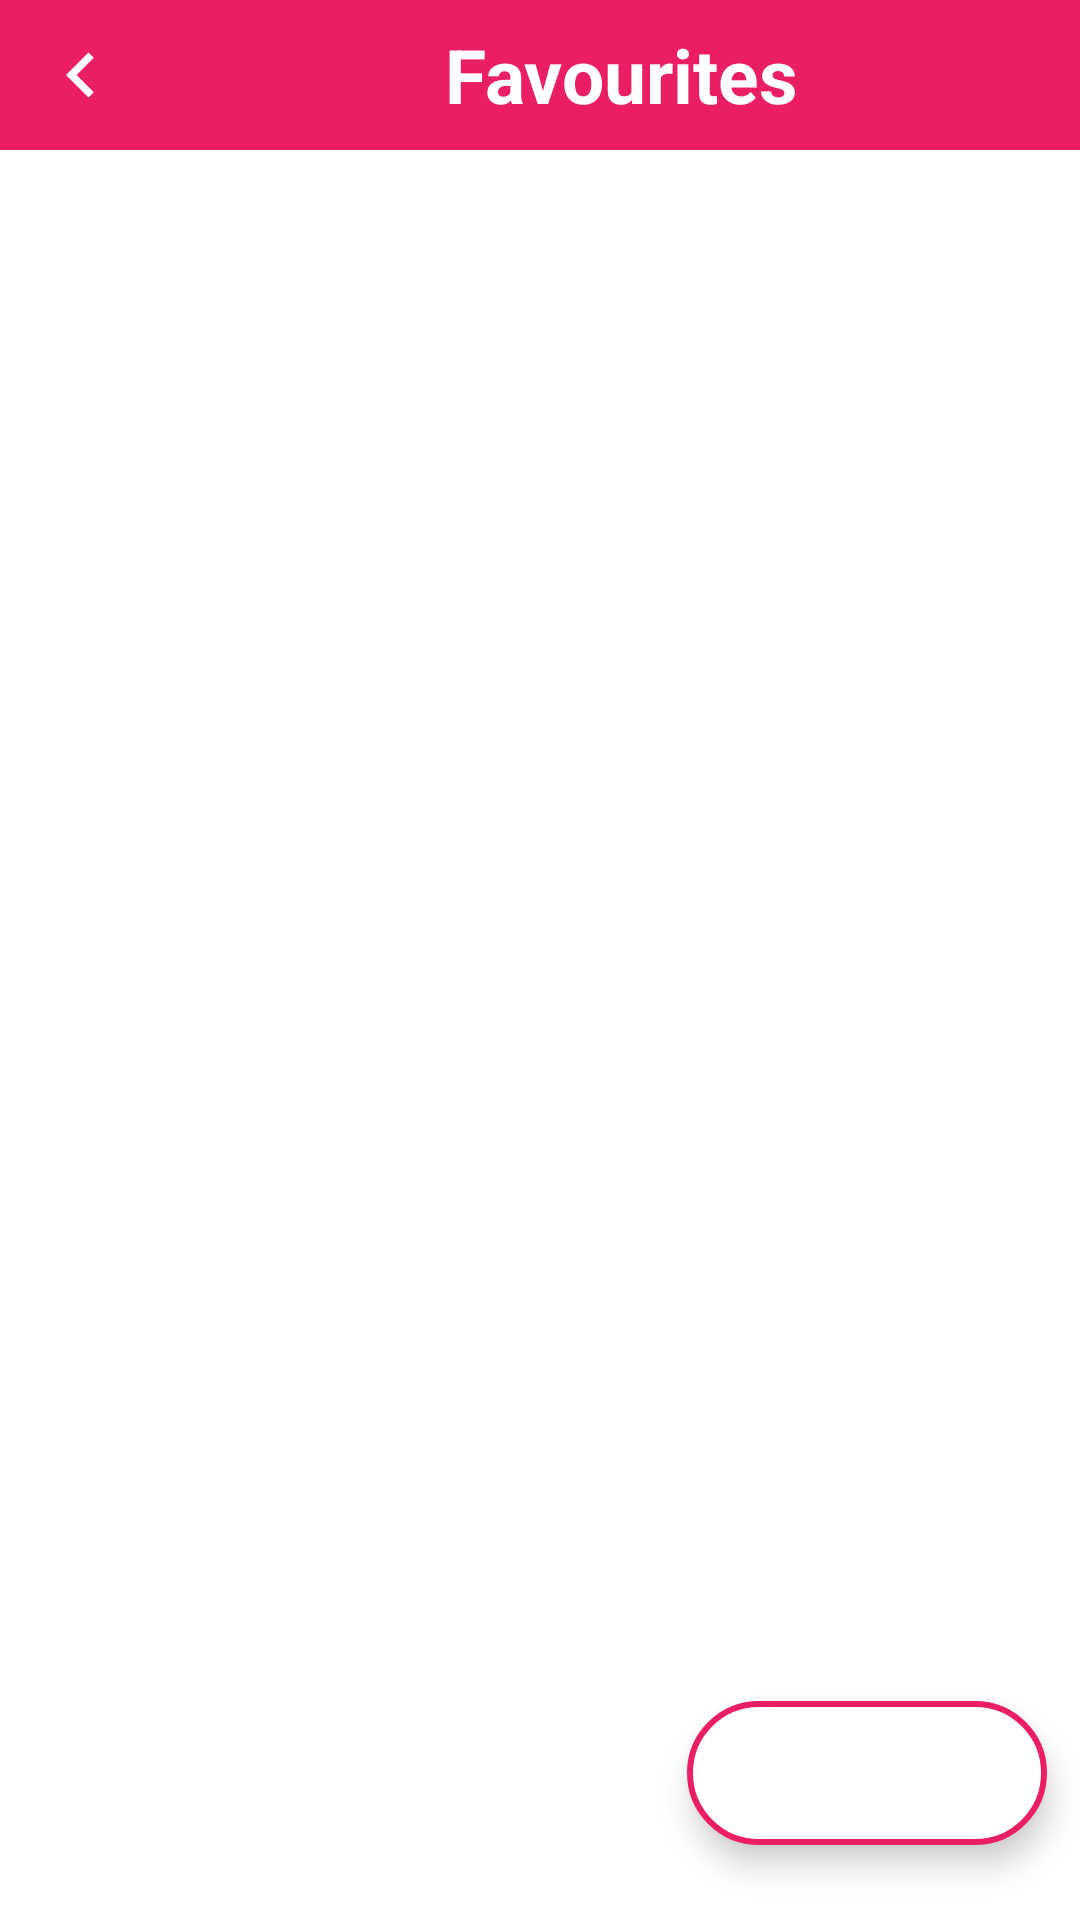

Point at icon controls on the screen. Image size 1080px x 1920px, points as point (x, y).
Back: point (80, 75)
